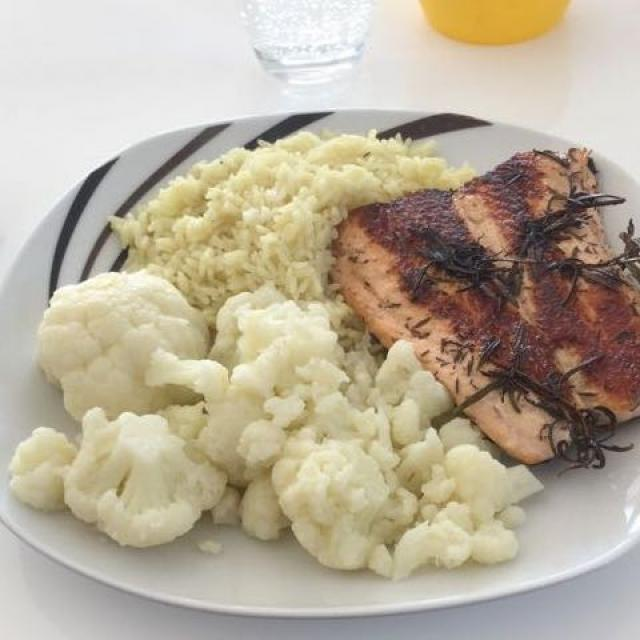cauliflower: (10, 280, 544, 571)
rice: (123, 131, 453, 302)
salmon: (323, 152, 638, 467)
